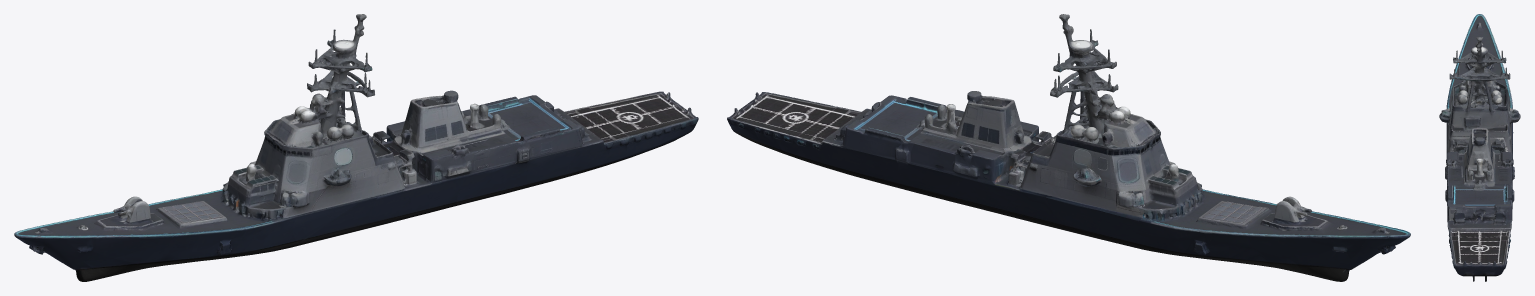
File: arleigh-burke-destroyer-meshy6-web-v1.glb
3 renders of one model, left to right at view 1: azimuth 30°, elevation 25°; view 2: azimuth 150°, elevation 25°; view 3: azimuth 270°, elevation 25°, orthographic. The views are drawn at different scales.
Bounding box in the file's own units: 1.9 × 0.5433 × 0.2857.
1 material, 1 textured.
